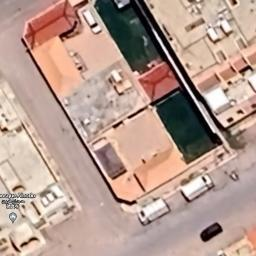truck: (179, 172, 217, 204), (137, 196, 173, 226)
van: (198, 220, 225, 244)
